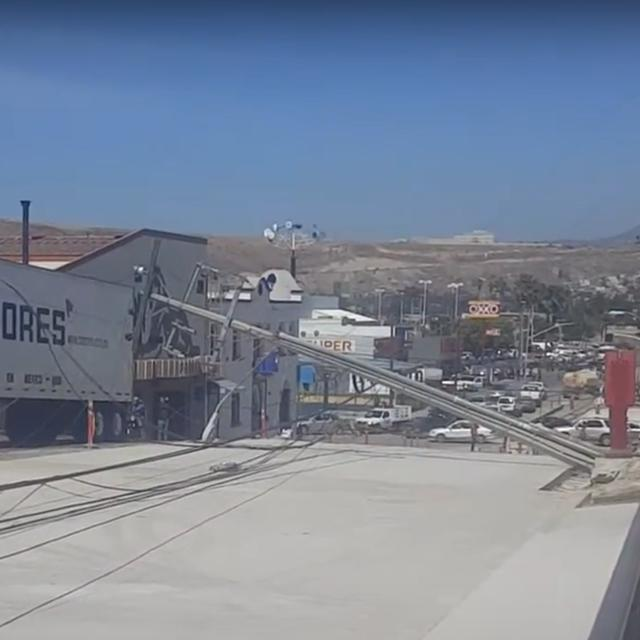Inclined Pole: (120, 235, 598, 469)
